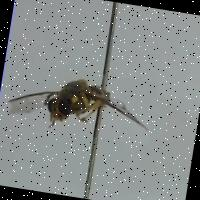Oriental-fruit-fly: (2, 58, 158, 145)
